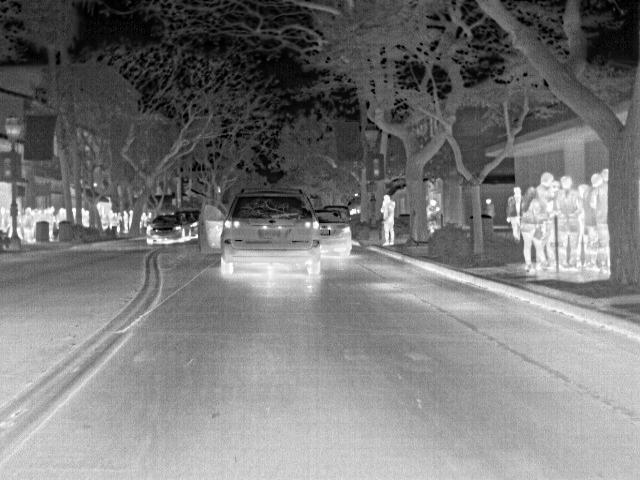car: (219, 184, 323, 276), (312, 207, 355, 255), (143, 214, 188, 248)
person: (588, 167, 612, 272), (554, 173, 577, 269), (580, 173, 602, 269), (536, 171, 557, 268), (521, 188, 539, 274), (380, 193, 399, 250), (507, 184, 522, 239), (425, 197, 444, 234), (480, 194, 495, 219), (120, 208, 132, 235)
